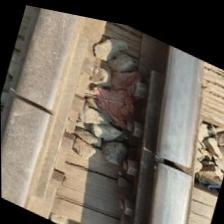person: (0, 52, 73, 154), (134, 114, 212, 202)
